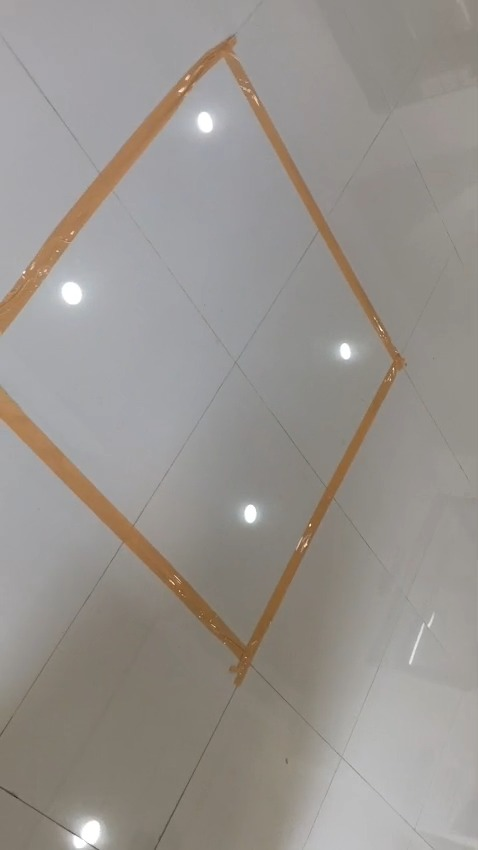floor marking: (0, 37, 404, 684)
